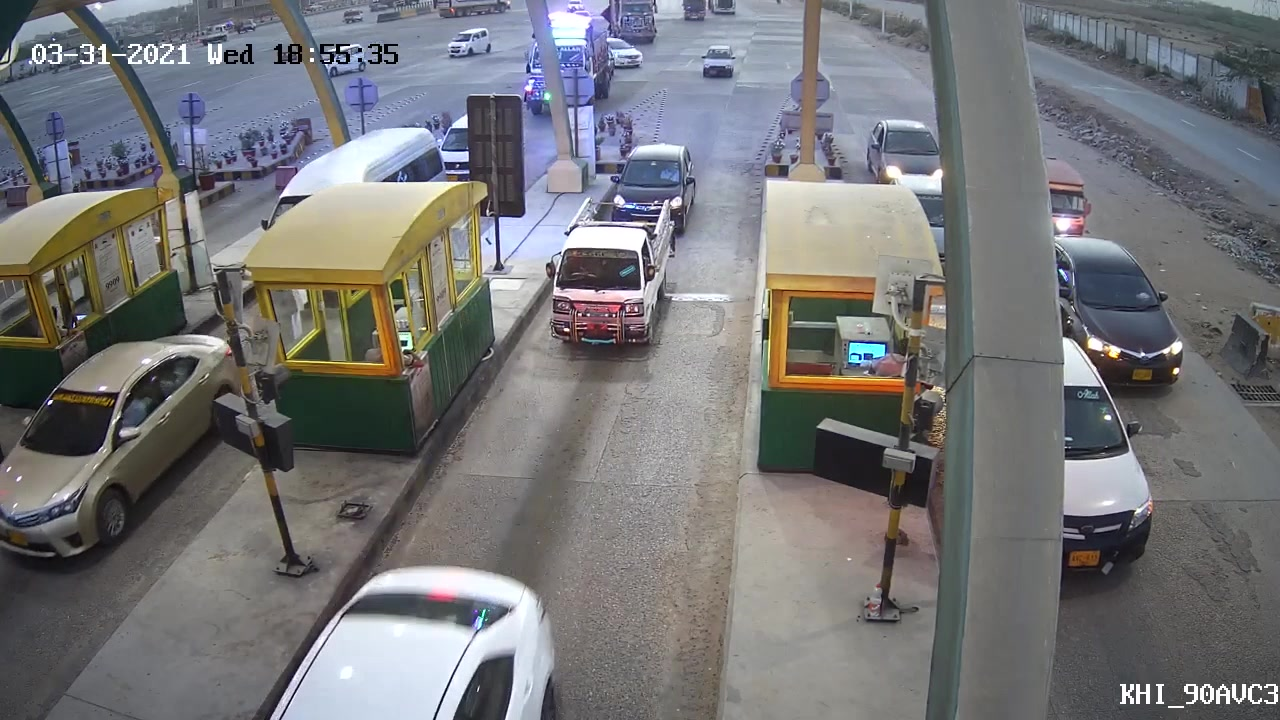F1: (538, 203, 682, 354)
